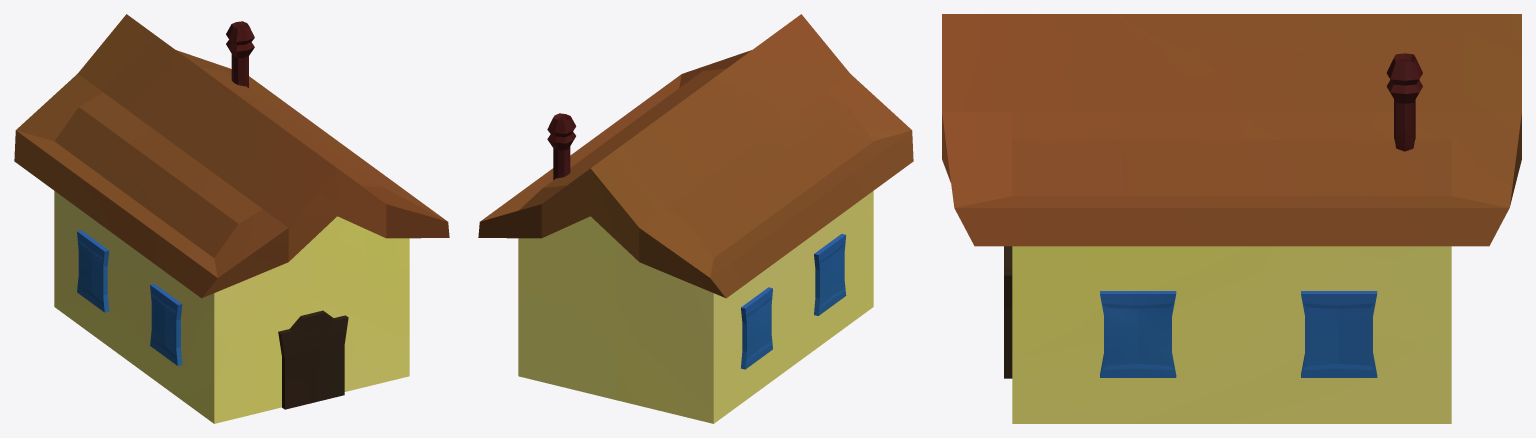
The model's file is SM_Farm_Building_House.fbx.
3 renders of one model, left to right at view 1: azimuth 30°, elevation 25°; view 2: azimuth 150°, elevation 25°; view 3: azimuth 270°, elevation 25°, orthographic. The views are drawn at different scales.
Visible parts, largest first — view 1: Cube.040; view 2: Cube.040; view 3: Cube.040.
Boxes of the visible parts, bbox=[...] form: Cube.040: bbox=[14, 14, 449, 423]; Cube.040: bbox=[478, 14, 913, 423]; Cube.040: bbox=[942, 14, 1521, 423].
Bounding box in the file's own units: 1031 × 1007 × 1519.
1 material, 1 textured.
